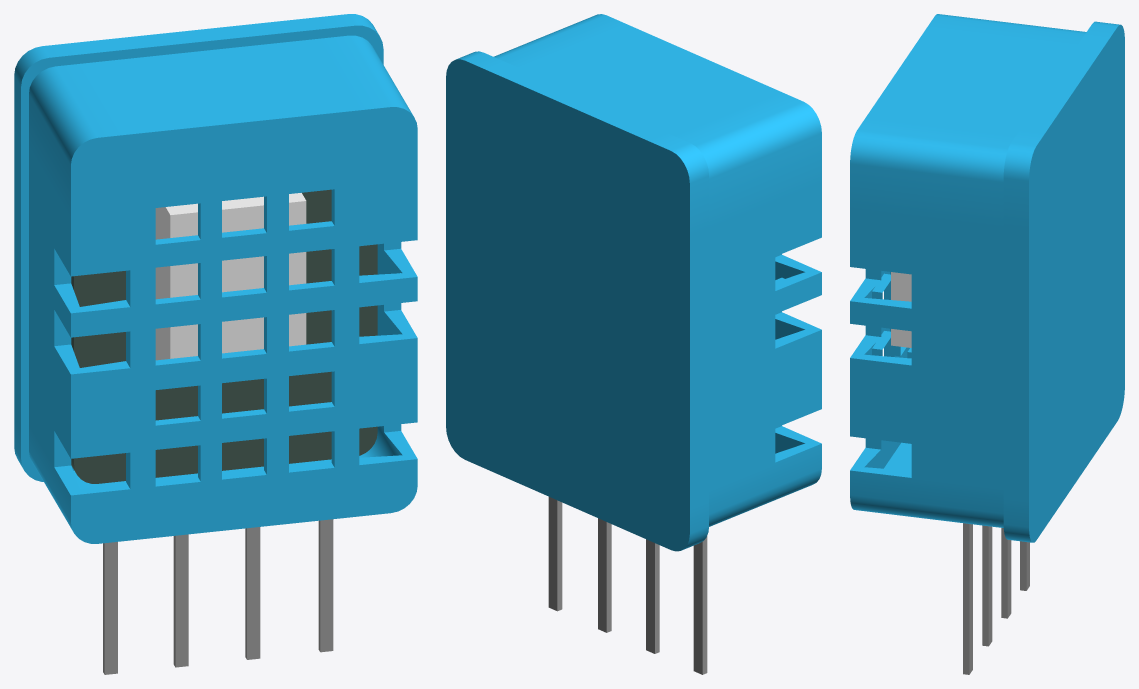
File: ATL-TSI100.glb
3 renders of one model, left to right at view 1: azimuth 30°, elevation 25°; view 2: azimuth 150°, elevation 25°; view 3: azimuth 270°, elevation 25°, orthographic. The views are drawn at different scales.
Visible parts, largest first — view 1: Main Body, Back.001, Back, battery, string-1, string-2, string-3, string; view 2: Back, Main Body, string, string-3, string-1, string-2; view 3: Main Body, Back, string-3, string-2, battery, string-1, string.
Part boxes in pixels (x1,y1,x2,y2): Main Body: (29, 35, 417, 543); Back.001: (71, 189, 377, 483); Back: (14, 14, 383, 481); battery: (155, 193, 306, 360); string-1: (173, 534, 188, 667); string-2: (245, 527, 260, 659); string-3: (318, 519, 333, 652); string: (103, 542, 117, 674); Back: (446, 51, 708, 551); Main Body: (494, 14, 821, 526); string: (693, 536, 707, 674); string-3: (548, 497, 562, 611); string-1: (646, 539, 659, 653); string-2: (598, 518, 611, 632); Main Body: (850, 14, 1086, 527); Back: (1003, 21, 1124, 542); string-3: (963, 523, 972, 674); string-2: (982, 525, 992, 646); battery: (891, 272, 911, 347); string-1: (1001, 528, 1011, 618); string: (1020, 541, 1029, 590).
Size of the model in its own units: 4.41 by 7.11 by 3.2.
